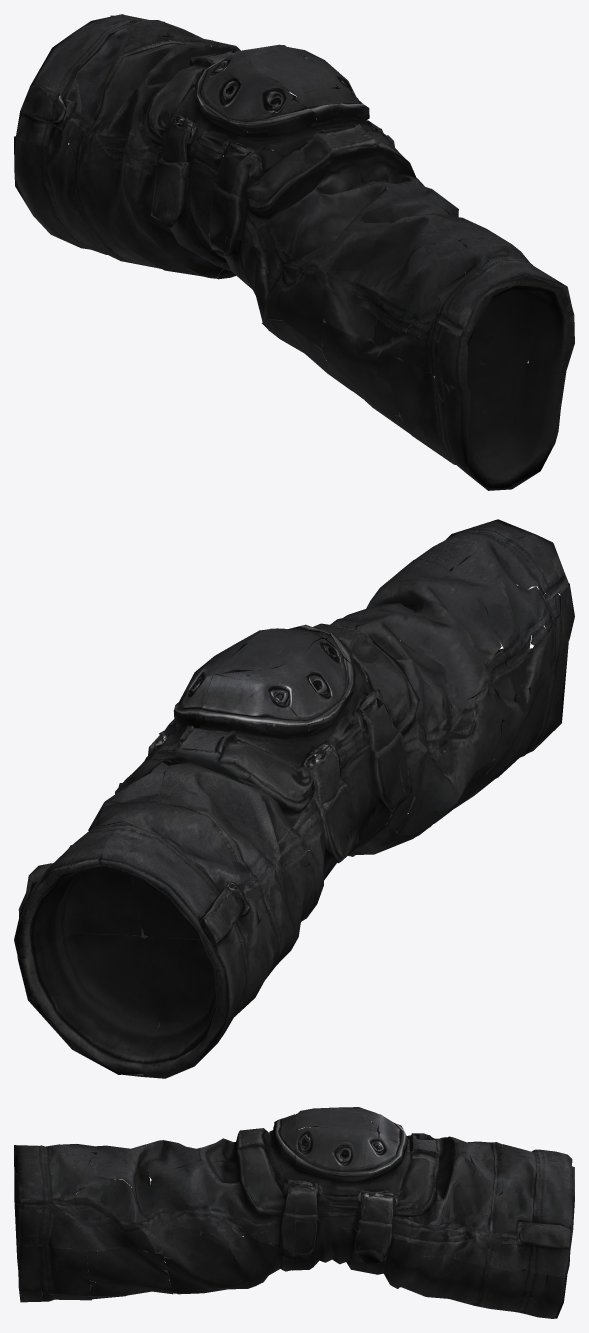
The model's file is p_shin.fbx.
3 views of the same model, one above another, from view 1: azimuth 30°, elevation 25°; view 2: azimuth 150°, elevation 25°; view 3: azimuth 270°, elevation 25° (orthographic). The views are drawn at different scales.
Parts seen in each view (by area): view 1: Part; view 2: Part; view 3: Part.
Boxes of the visible parts, box(x1,y1,x2,y2) form: Part: box(14, 14, 574, 490); Part: box(14, 519, 574, 1078); Part: box(14, 1107, 574, 1318).
Size of the model in its own units: 0.1306 by 0.1792 by 0.45.
